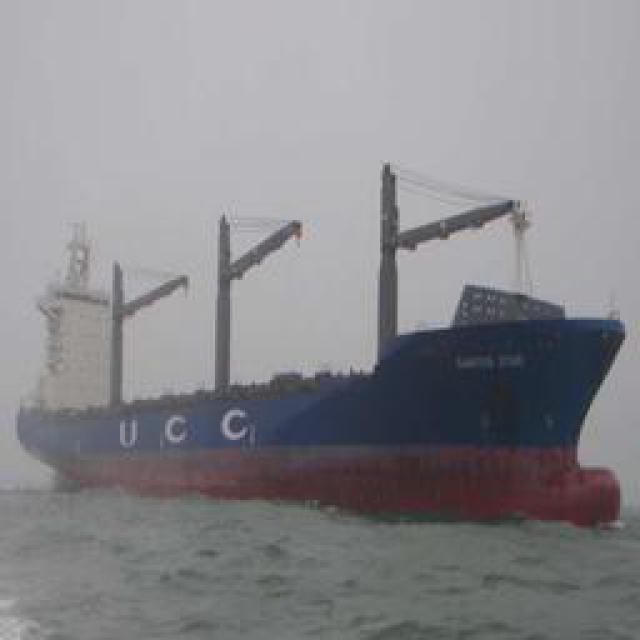Ship: (18, 207, 631, 525)
